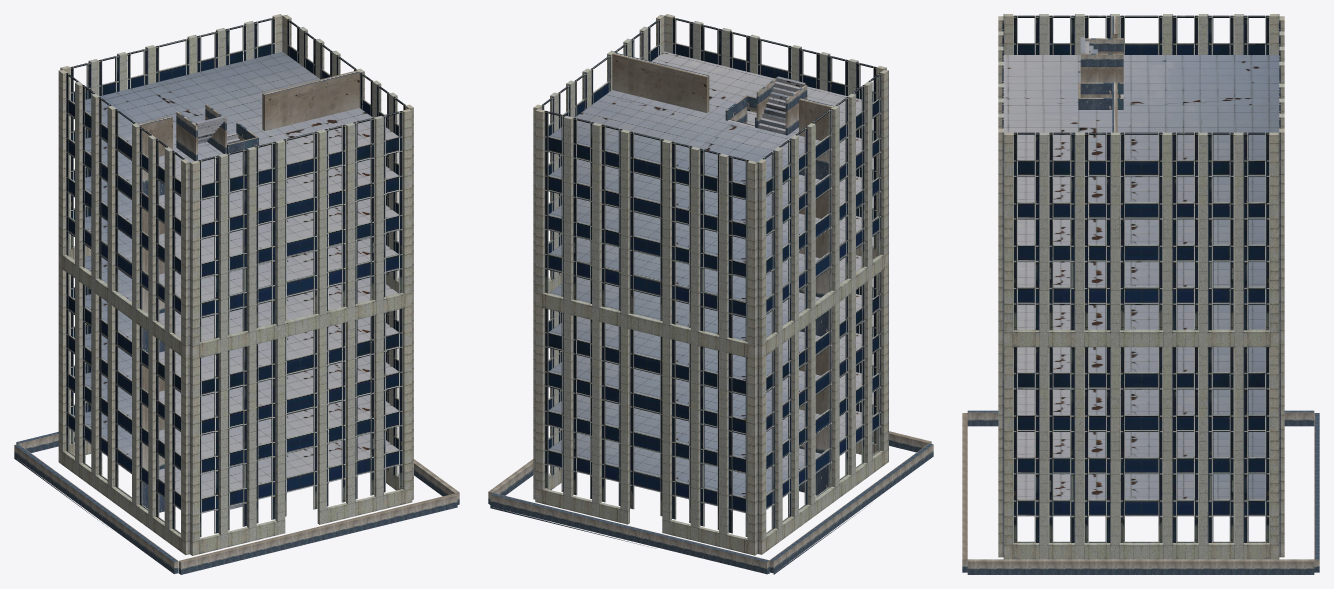
The model's file is BagSS02mid_high.fbx.
3 renders of one model, left to right at view 1: azimuth 30°, elevation 25°; view 2: azimuth 150°, elevation 25°; view 3: azimuth 270°, elevation 25°, orthographic. The views are drawn at different scales.
Visible parts, largest first — view 1: midMain700, midFloor700, midrail700, midWall700, midStairWell700; view 2: midMain700, midFloor700, midrail700, midWall700, midStairWell700, StairsJ; view 3: midMain700, midFloor700, midrail700, midStairWell700.
Boxes of the visible parts, x1,y1,x2,y2 form: midMain700: (58, 14, 413, 555); midFloor700: (74, 51, 398, 497); midrail700: (14, 432, 459, 574); midWall700: (137, 70, 359, 512); midStairWell700: (176, 104, 258, 467); midMain700: (533, 14, 888, 555); midFloor700: (549, 51, 873, 497); midrail700: (488, 431, 933, 574); midWall700: (612, 52, 833, 495); midStairWell700: (725, 78, 807, 135); StairsJ: (758, 76, 805, 134); midMain700: (998, 14, 1284, 559); midFloor700: (1003, 55, 1279, 499); midrail700: (962, 410, 1319, 574); midStairWell700: (1078, 38, 1123, 109).
Size of the model in its own units: 48.23 by 63.76 by 48.22.
